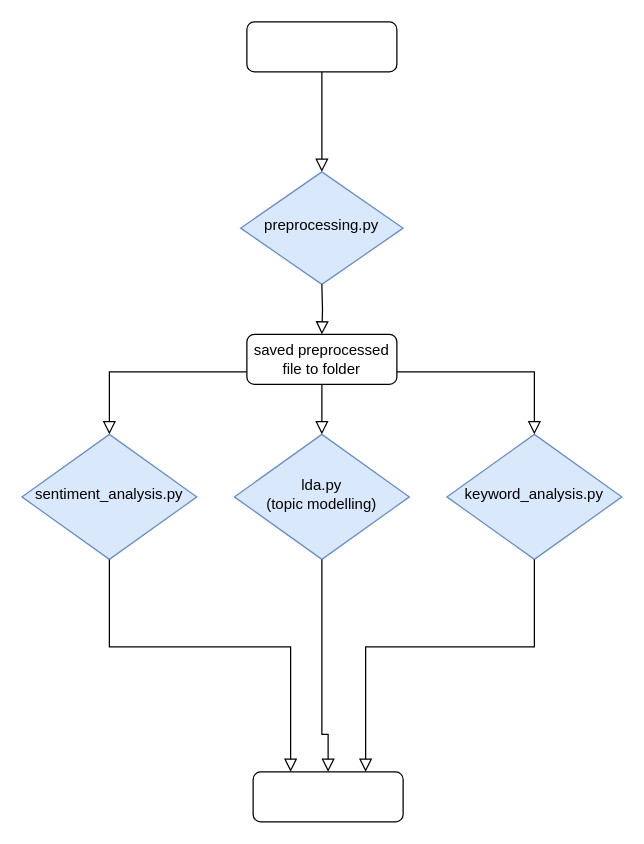
Image size: 644x844. Some labels were removed from this diagram. The shapes that lost their labels are listed below. From the top down, each one's box as (x1, y1, x2, y2) in pixels, then its label:
(246, 21, 397, 72): input: csv file
(252, 771, 403, 822): save results to designated folder
